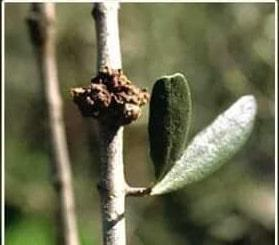Tuberculosis: (70, 69, 152, 131)
